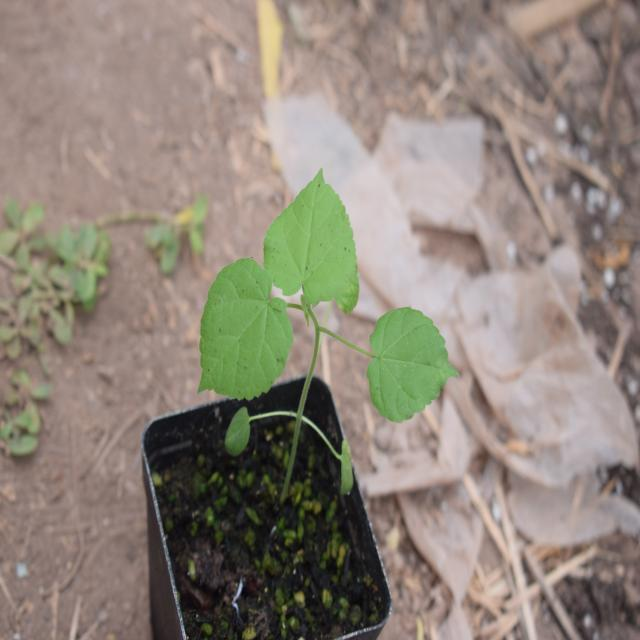abutilon theophrasti: (173, 163, 439, 492)
